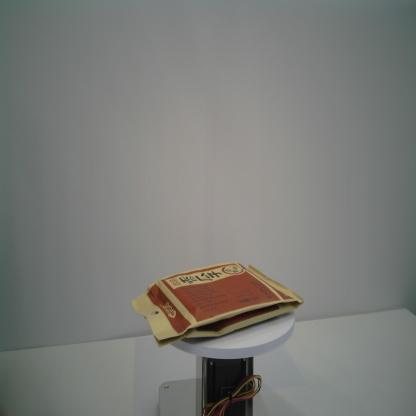Dried Food: (130, 261, 305, 349)
